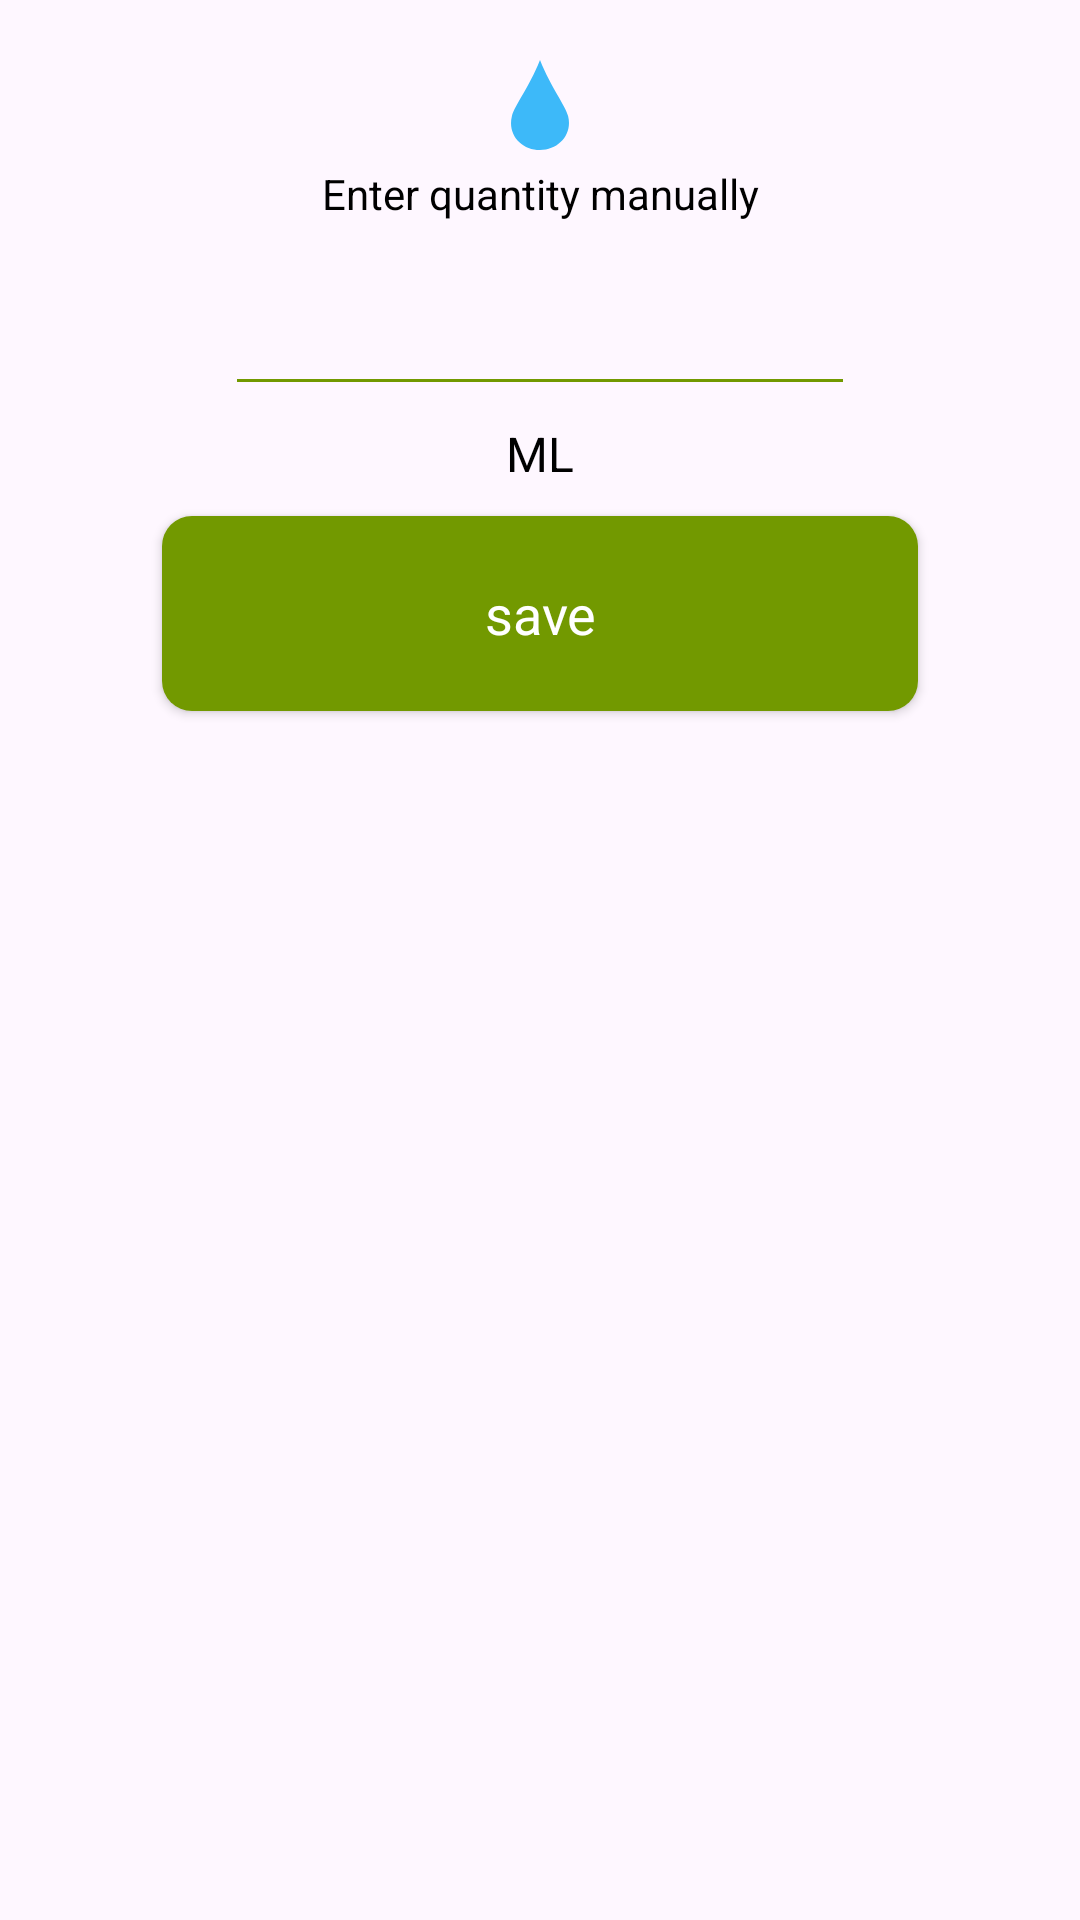

Icon click points for this 1080px x 1920px phone screenshot, format [x,y]:
point water: [540,105]
